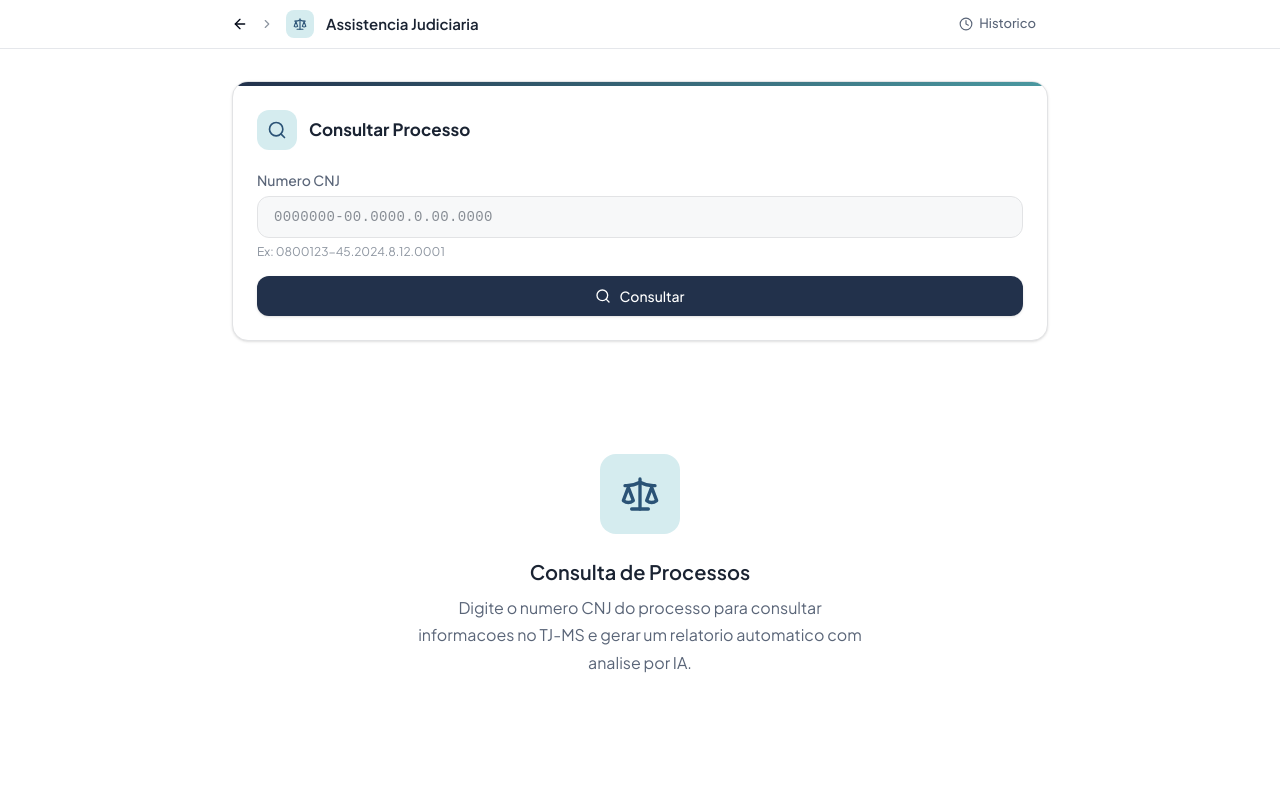
AssistenciaPage › deve mostrar historico quando API retorna sucesso
# Abre o sheet de historico
What coordinates should you click on to do the following:
click the button "Historico"
I would click on:
 (998, 24)
Its box is [947,8,1048,40].
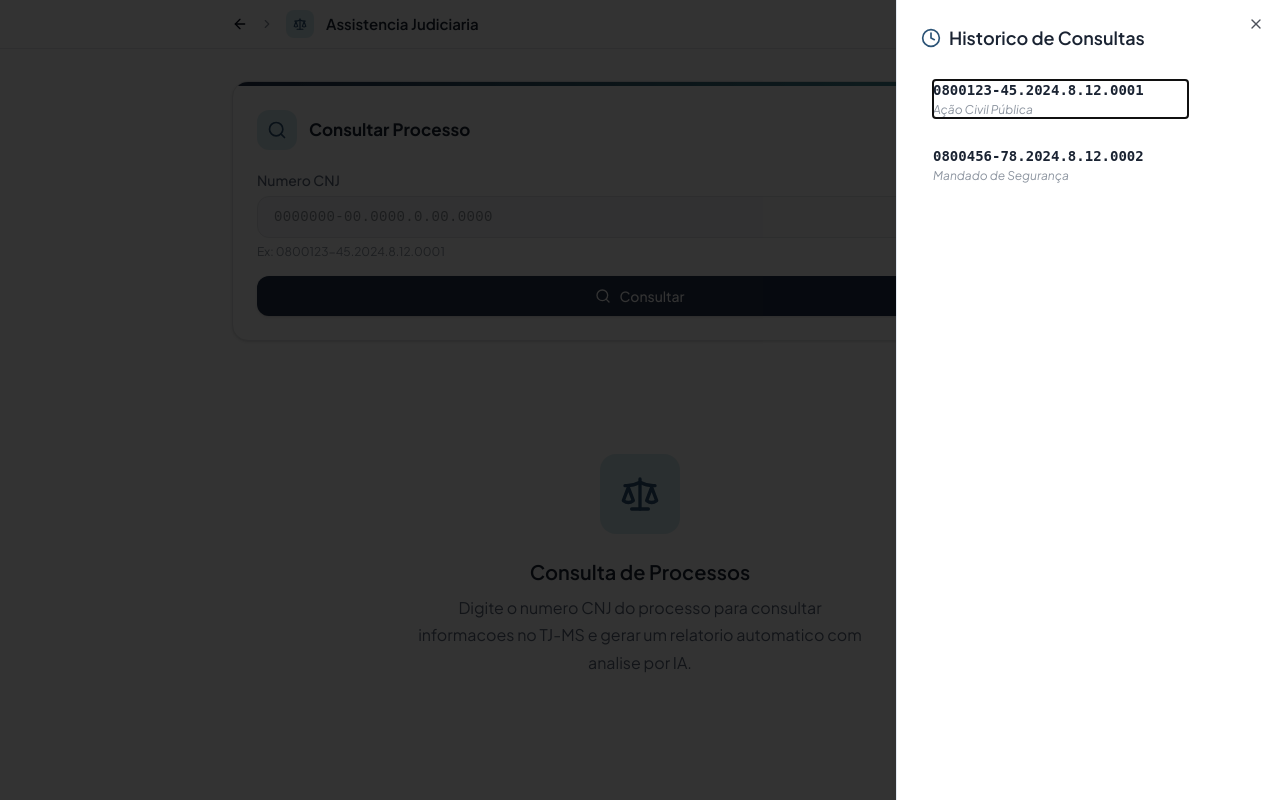
Now the text "0800123-45.2024.8.12.0001" is shown, box [933,82,1144,98]
